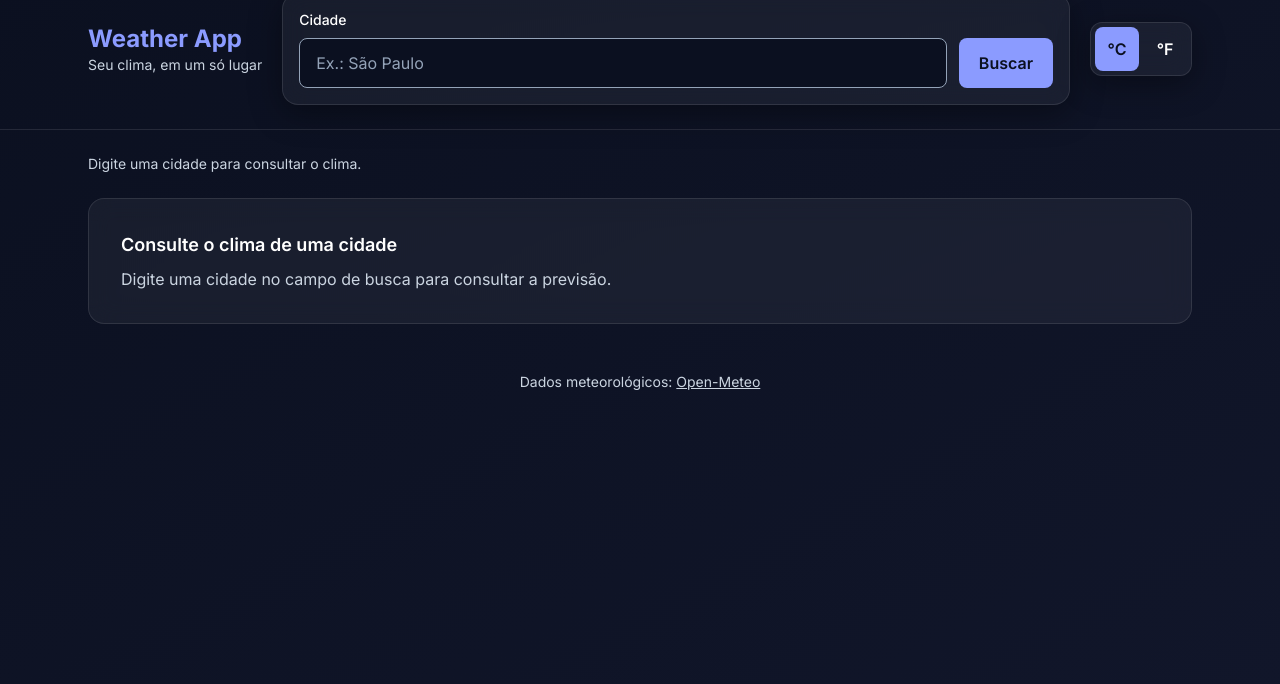
it: App integrado › exibe erro de search e liga retry à última operação
Type "São Paulo" into the search field.
click(623, 63); type("São Paulo")  # box [299, 38, 947, 88]
Then press Enter
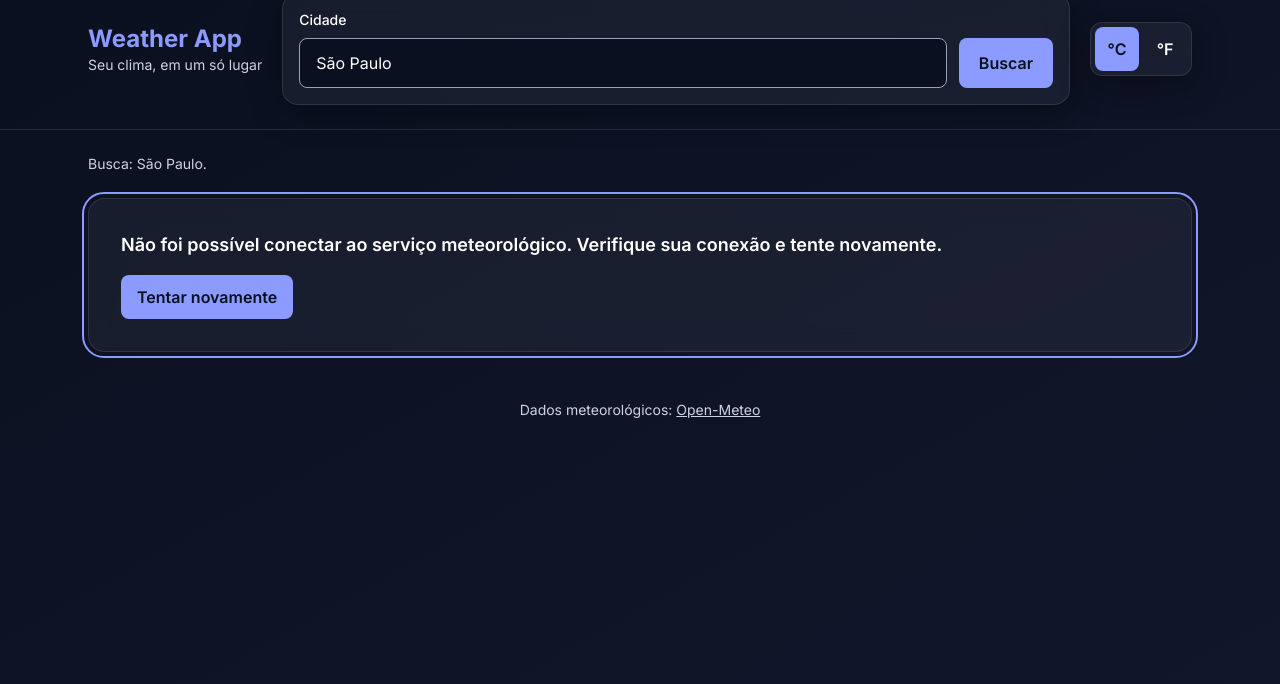
Expected: the message shows "Não foi possível conectar ao serviço meteorológico. Verifique sua conexão e tente novamente.", [121, 234, 942, 255]
Click the button "Tentar novamente".
click(207, 297)  # box [121, 275, 293, 319]
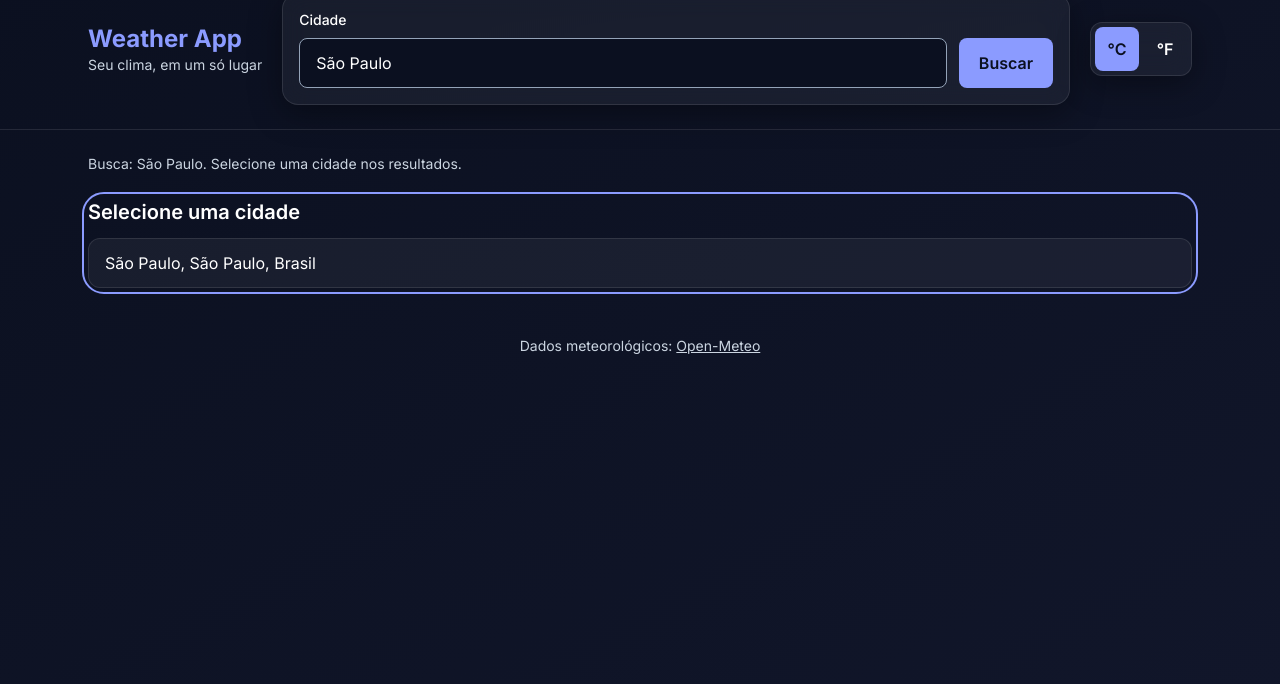
Click the button "São Paulo, São Paulo, Brasil".
click(210, 263)  # box [88, 238, 1192, 288]
(page scrolled)
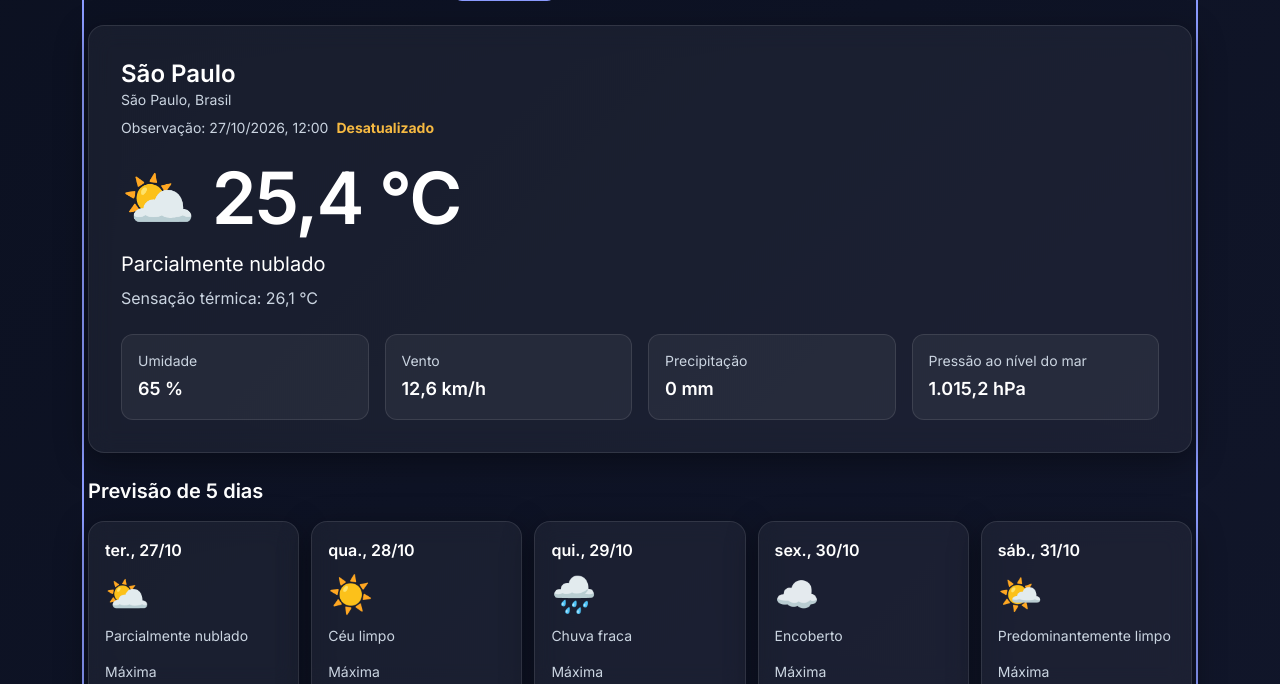
Expected: the text "25,4 °C" is shown, [212, 162, 460, 234]
